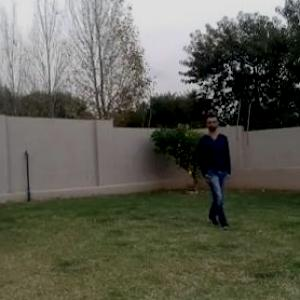follow: (203, 117, 231, 228)
